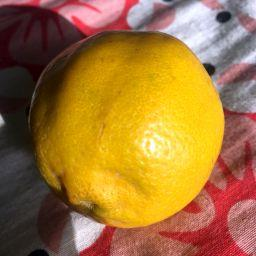Ripe: (29, 30, 221, 225)
